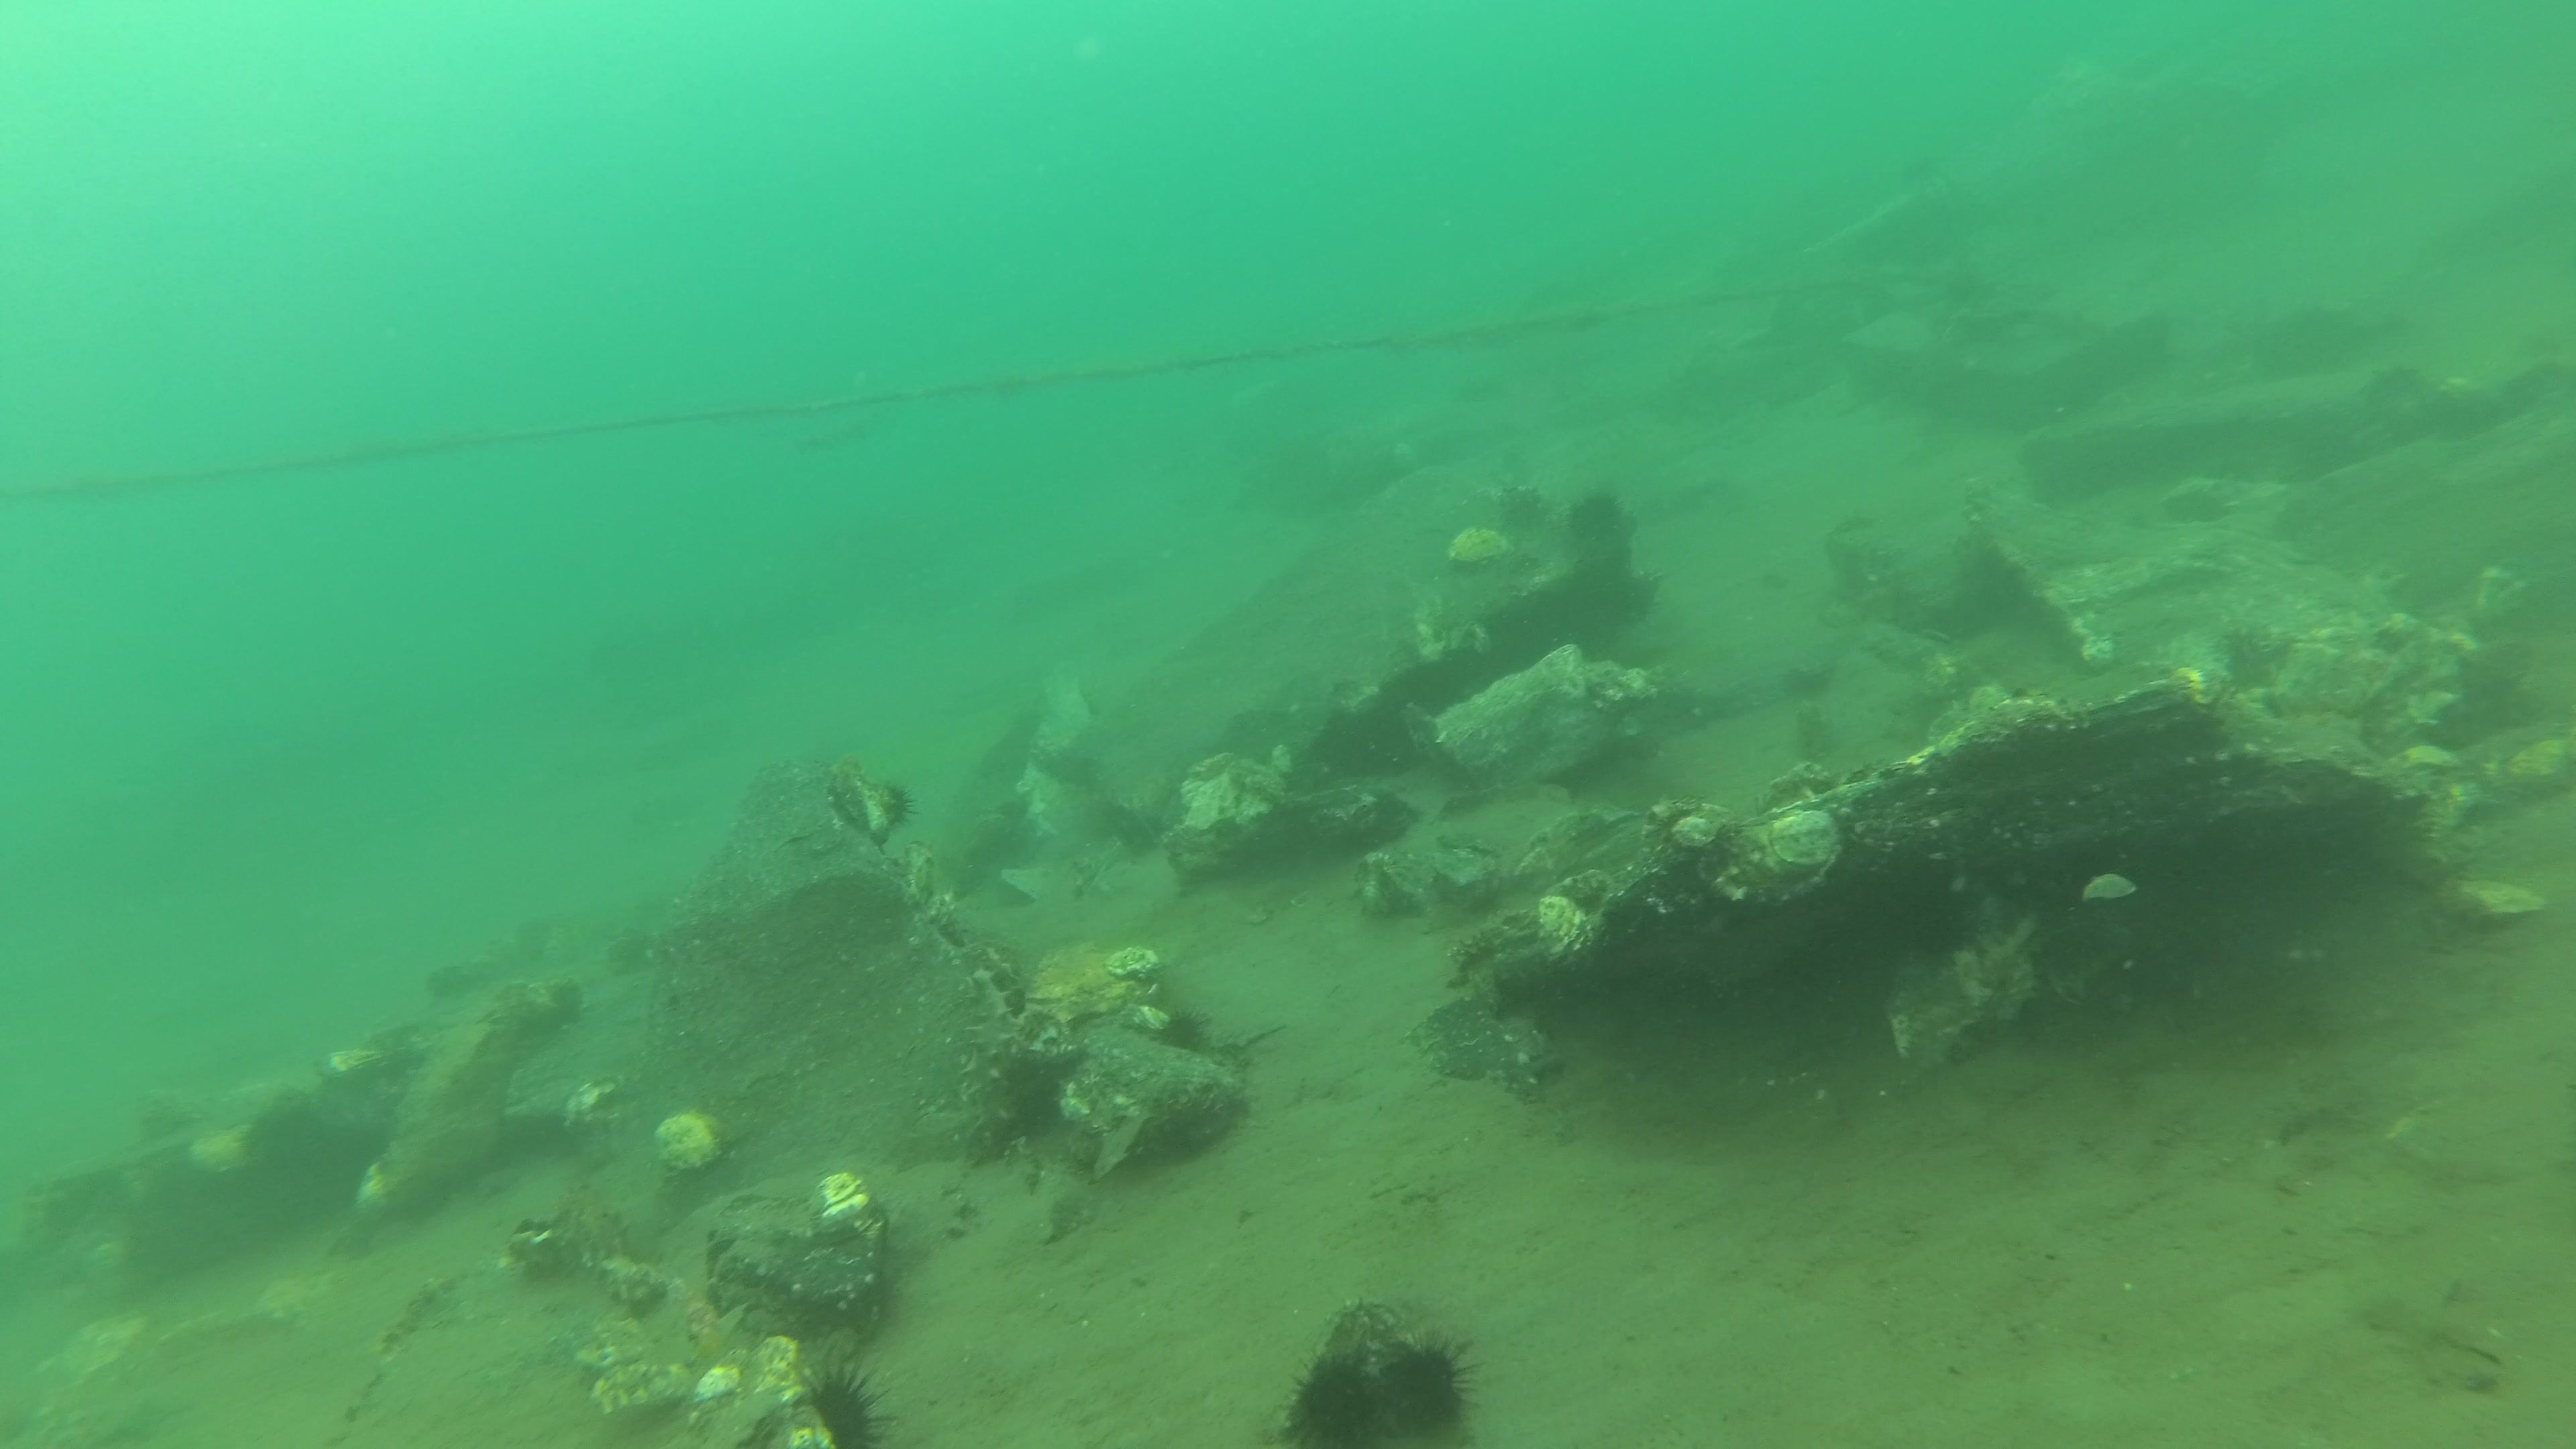echinus: (1371, 1332, 1481, 1437), (1279, 1350, 1376, 1449), (796, 1355, 895, 1449), (874, 771, 924, 839)
